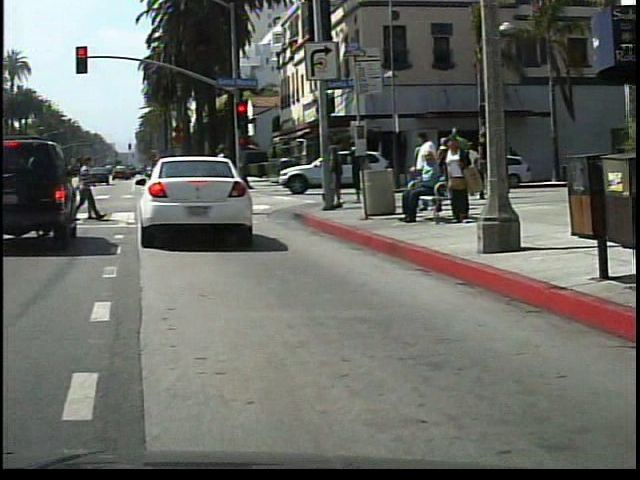person: (443, 131, 480, 230), (402, 152, 450, 226), (208, 138, 246, 219)
